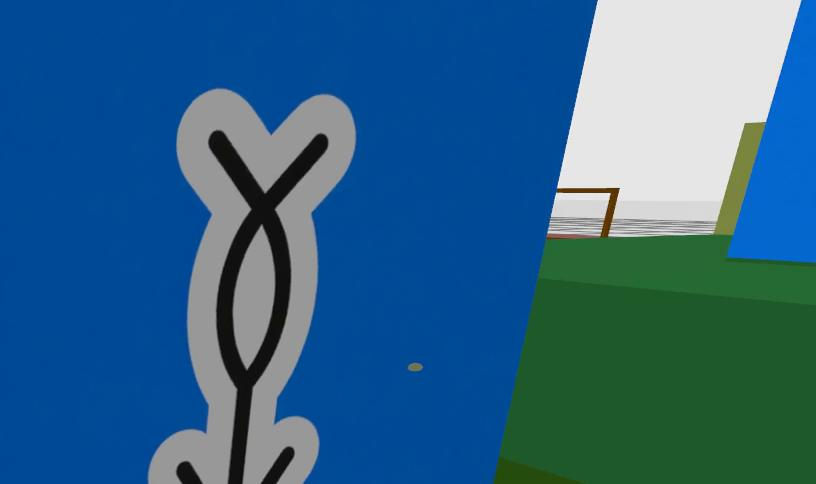KFS_REAL: (0, 0, 595, 484), (149, 89, 354, 484)
